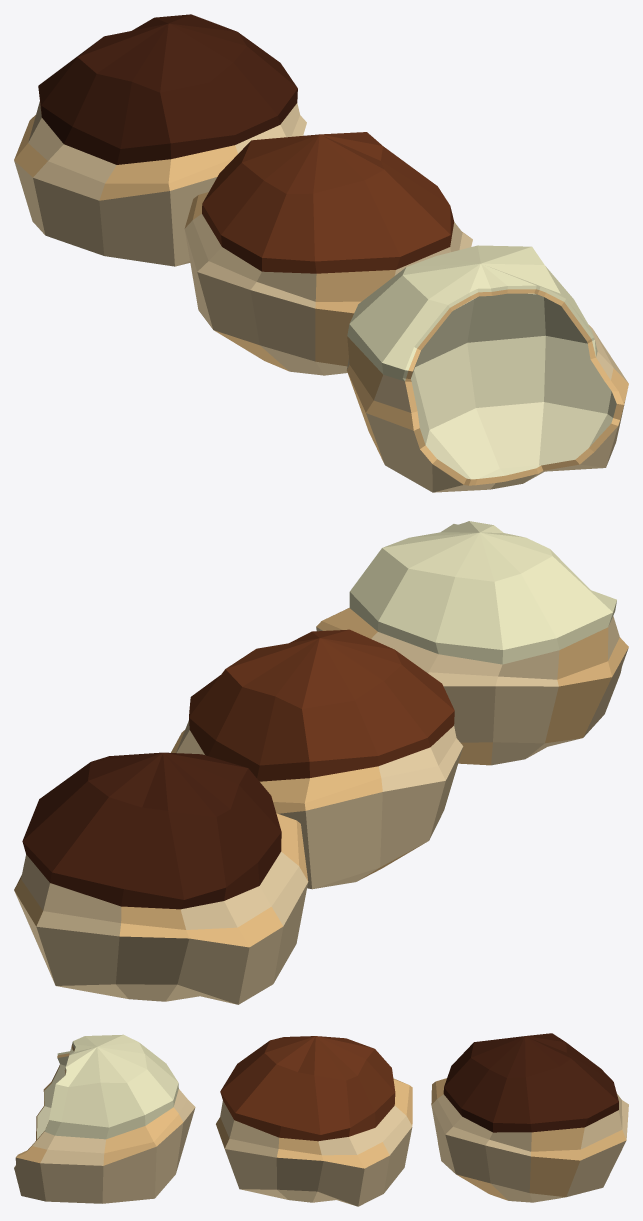
Rendered from ProfiteroleState1.fbx.
3 views of the same model, one above another, from view 1: azimuth 30°, elevation 25°; view 2: azimuth 150°, elevation 25°; view 3: azimuth 270°, elevation 25° (orthographic). The views are drawn at different scales.
Visible parts, largest first — view 1: ProfiteroleState1; view 2: ProfiteroleState1; view 3: ProfiteroleState1.
Part boxes in pixels (left/top/right/bottom): ProfiteroleState1: left=14, top=14, right=628, bottom=492; ProfiteroleState1: left=14, top=521, right=628, bottom=1004; ProfiteroleState1: left=14, top=1033, right=628, bottom=1206.
Bounding box in the file's own units: 46.96 × 37.69 × 143.
